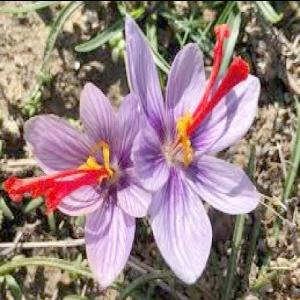Saffron: (127, 22, 264, 279), (24, 92, 146, 282)
